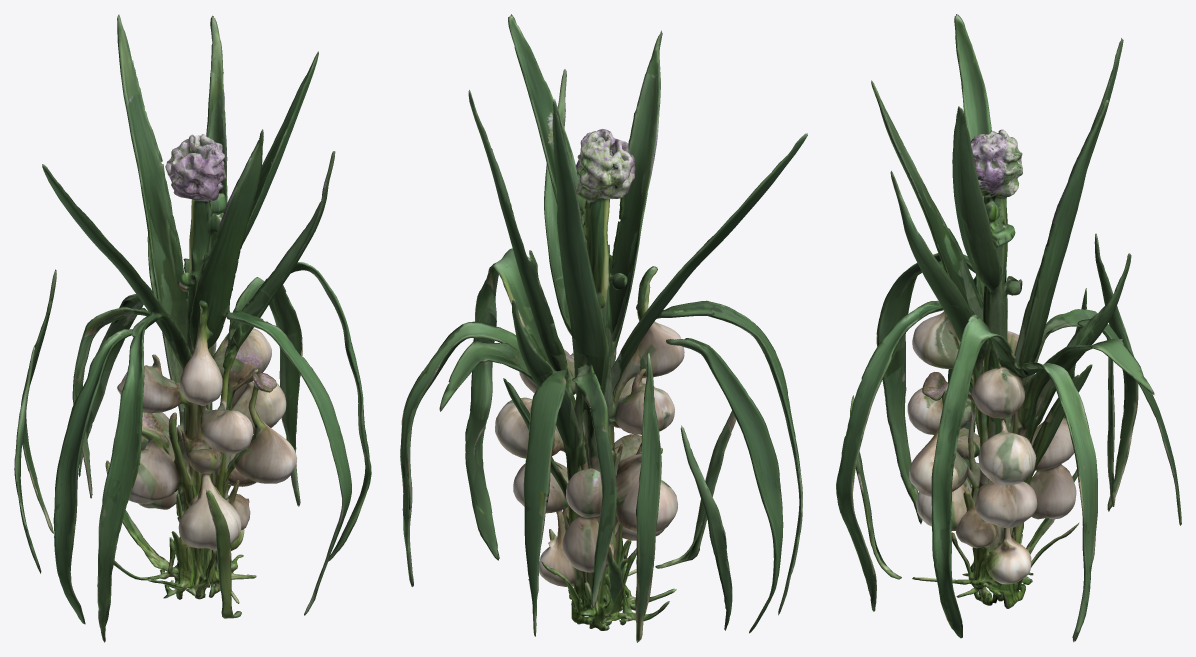
Rendered from Garlic_GLTF.gltf.
The picture shows the model from 3 angles, left to right: view 1: azimuth 30°, elevation 25°; view 2: azimuth 150°, elevation 25°; view 3: azimuth 270°, elevation 25°; orthographic projection. The views are drawn at different scales.
Parts seen in each view (by area): view 1: Node #0; view 2: Node #0; view 3: Node #0.
Part boxes in pixels (x1,y1,x2,y2): Node #0: (14, 14, 371, 642); Node #0: (400, 14, 807, 642); Node #0: (836, 14, 1181, 642).
Size of the model in its own units: 1.26 by 2 by 1.13.
Materials: 1 (1 with a texture image).
